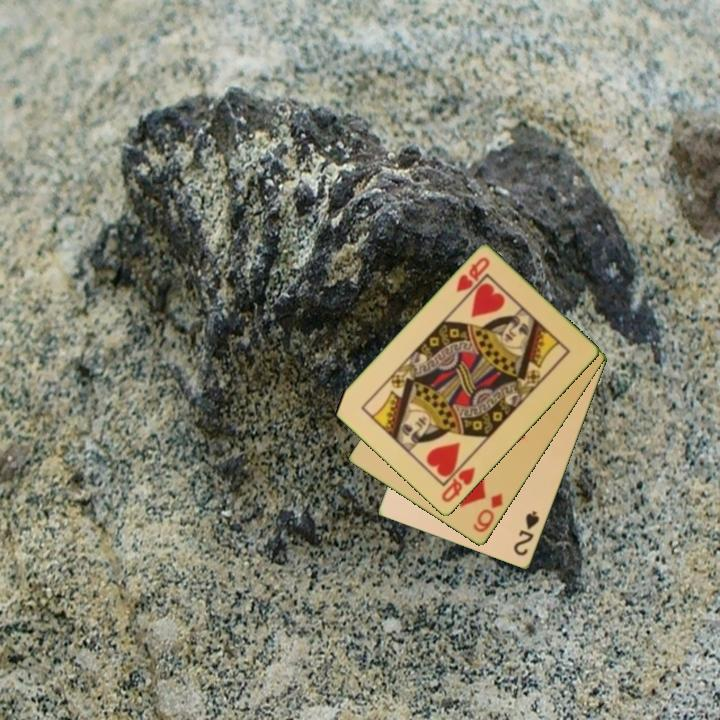2s: (510, 507, 542, 559)
6d: (469, 490, 506, 536)
Qh: (452, 254, 493, 296), (438, 464, 478, 506)
